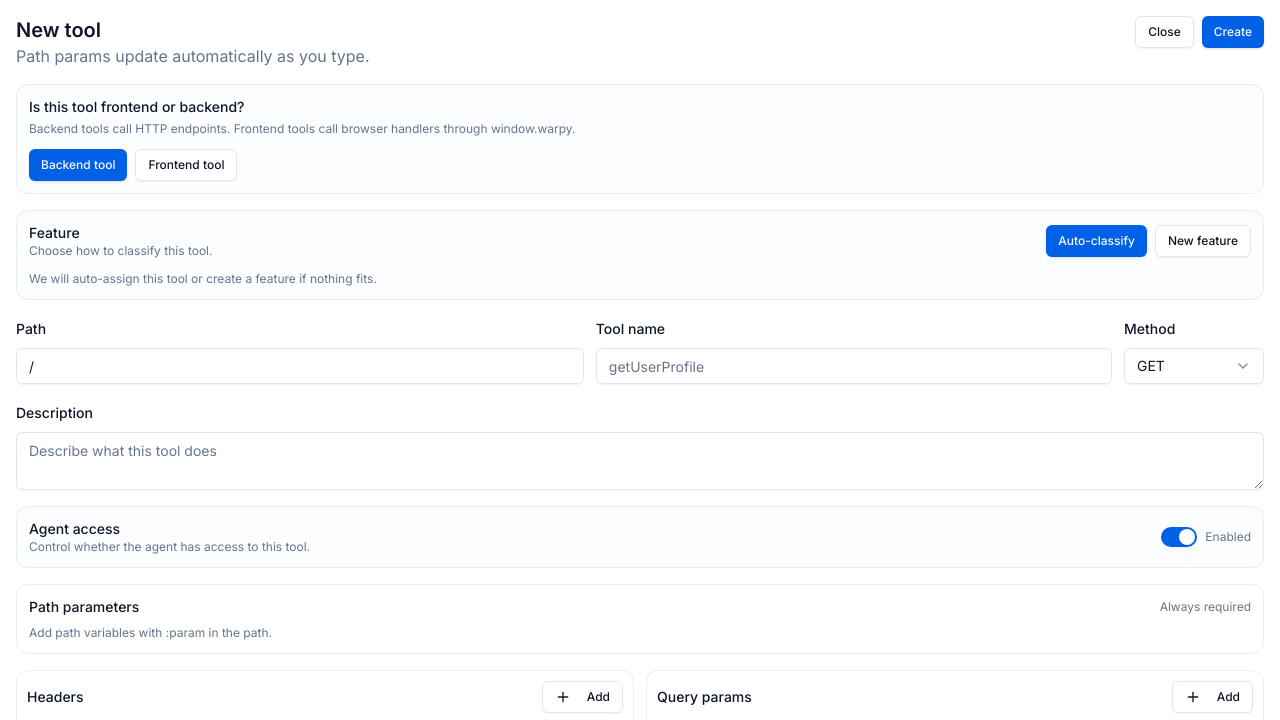
ToolEditor validation UI › shows errors and highlights top-level fields when empty
The width and height of the screenshot is (1280, 720).
Click the button with test id "save-tool" at (1233, 32), box [1202,16,1264,48]
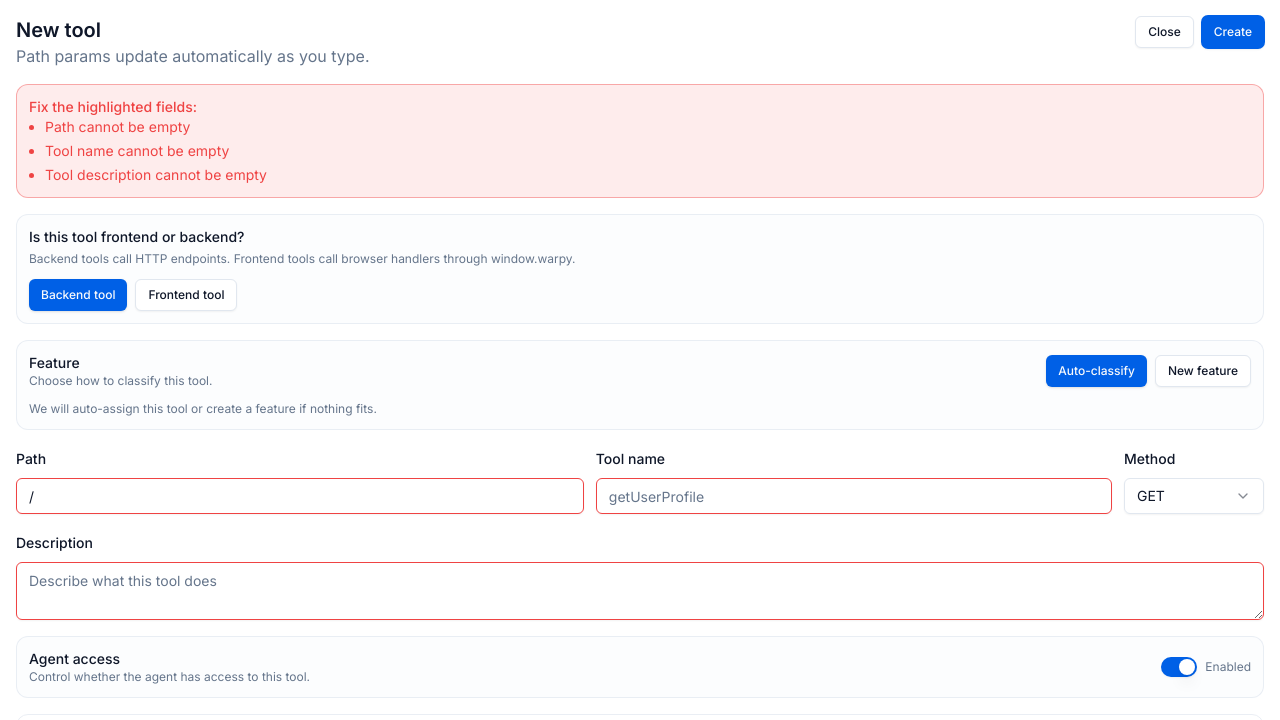
Expected: the element with test id "tool-validation-banner" shows "Path cannot be empty", [45,118,190,135]
